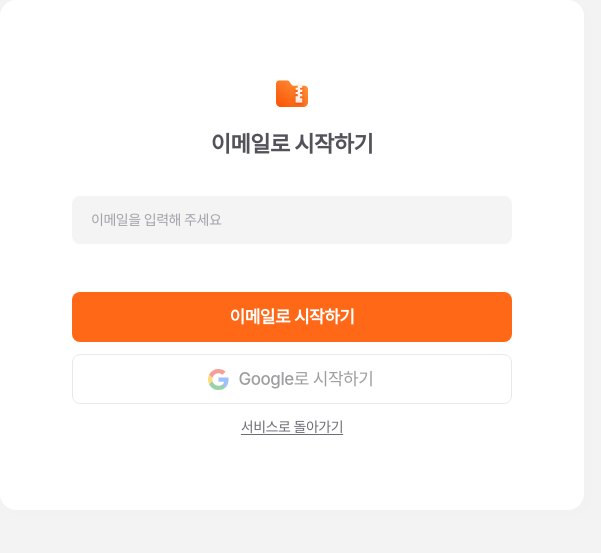
Test: AuthEntryPage › revalidates the email while editing after submit validation
Type "invalid-email" into the field labelled "이메일".
click(292, 220); type("invalid-email")  # box [91,209,493,231]
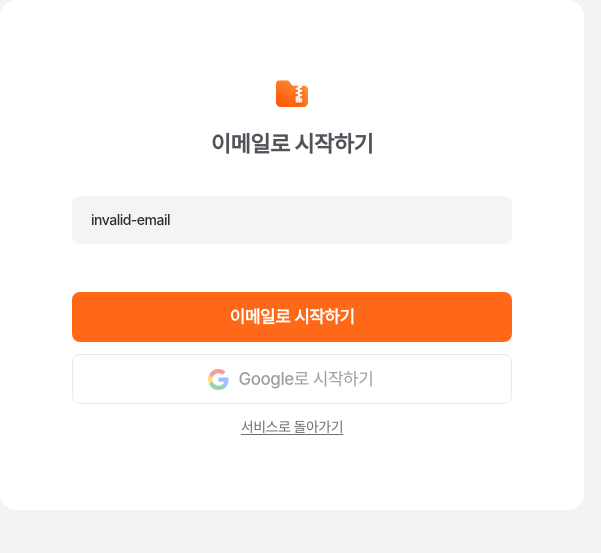
Click the button "이메일로 시작하기".
click(292, 317)  # box [72,292,512,342]
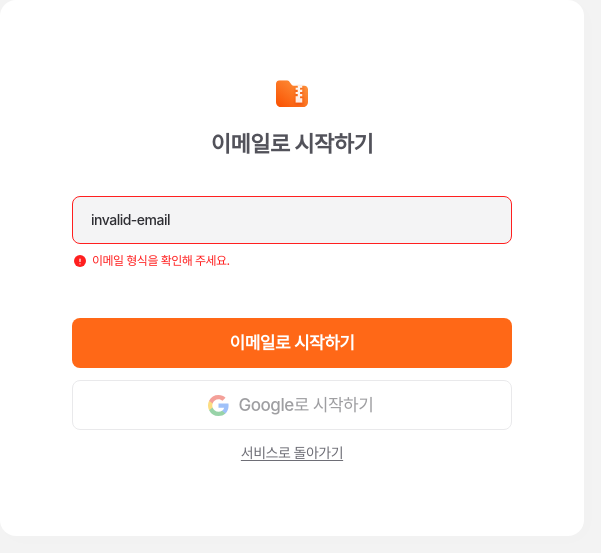
Now the message reads "이메일 형식을 확인해 주세요.", box [92,253,230,268]
Replace the text in the field named "이메일" with "valid@example.com" at (292, 220), box [91,209,493,231]
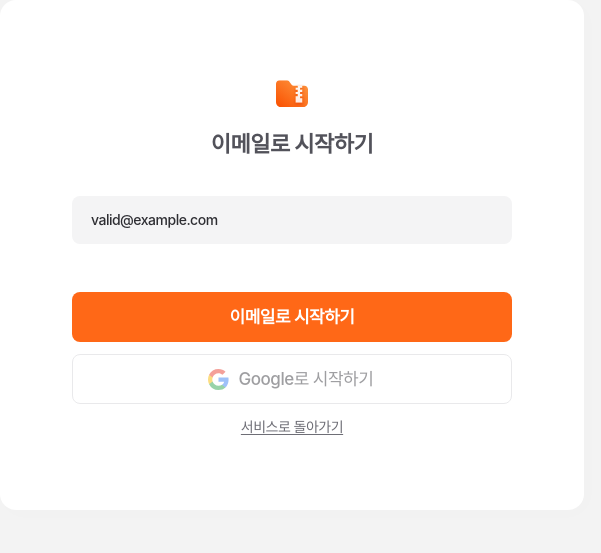
Now the message "이메일을 입력해 주세요." is gone
